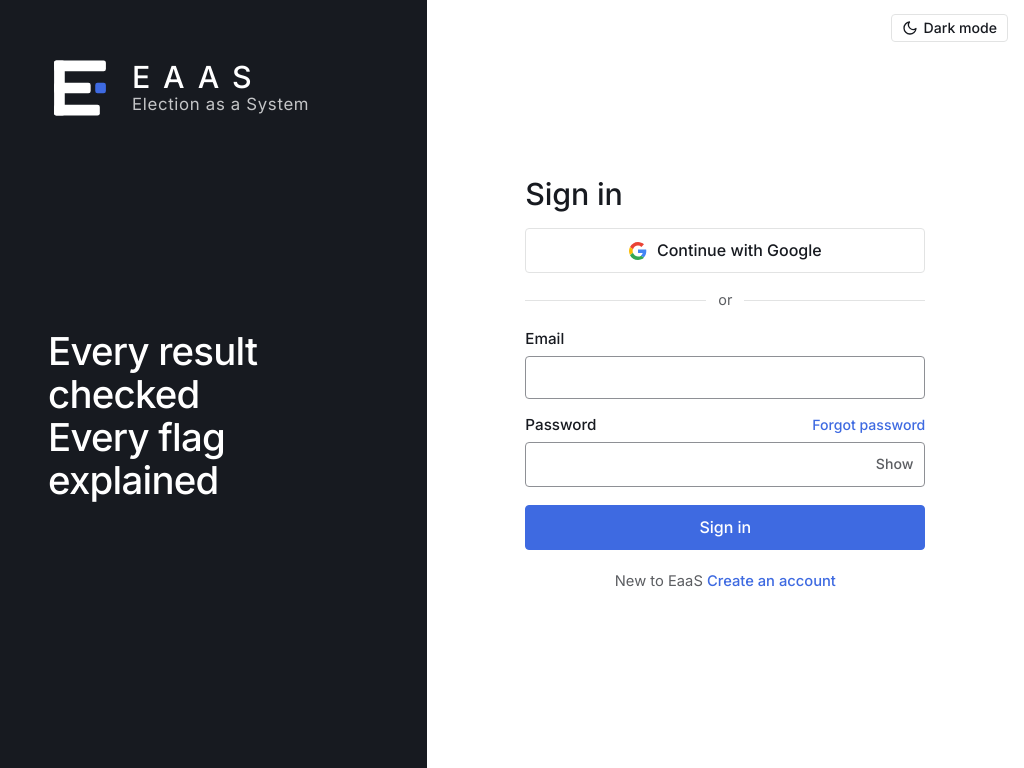
configuration and sign-in › points to email sign-in when Google is unavailable
Click the button "Continue with Google": (725, 250) [525, 228, 925, 273]
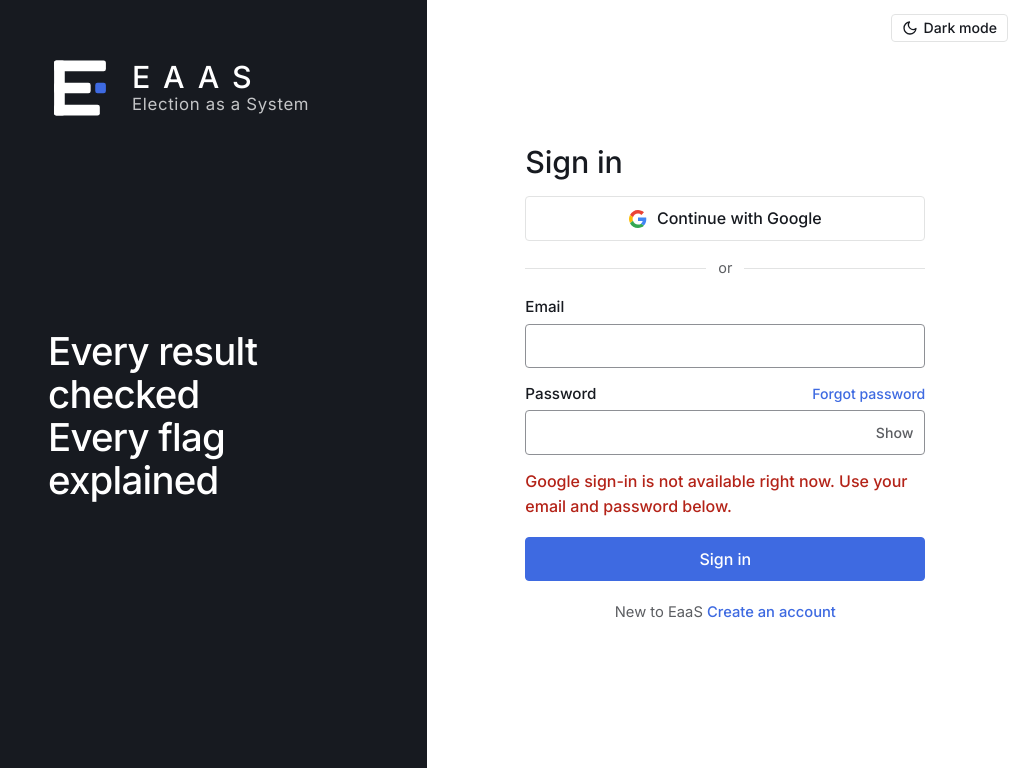
Expected: the message shows "Use your email and password below", [525, 471, 908, 516]
